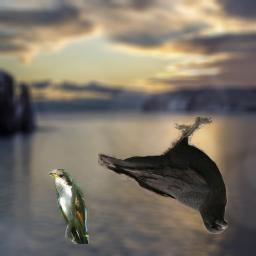Crow: (98, 117, 228, 234)
Cuckoo: (49, 169, 89, 244)
